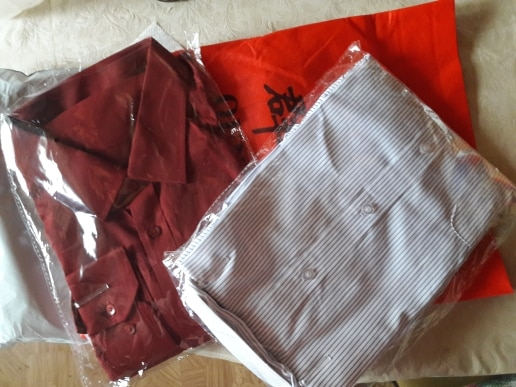shirts: (167, 83, 516, 380), (12, 41, 267, 368)
